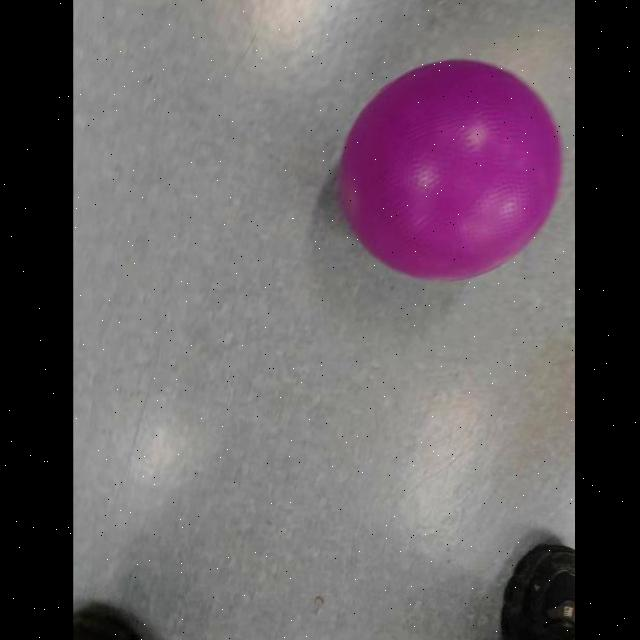P: (334, 56, 566, 284)
